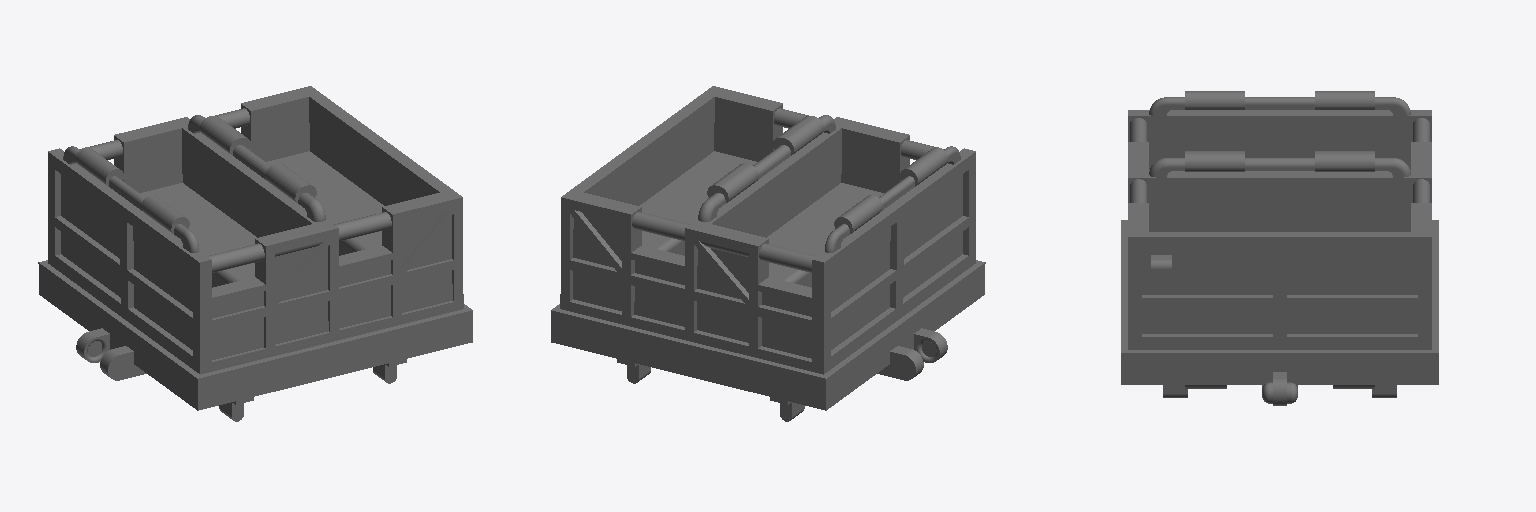
Rendered from roller_coaster_body.obj.
3 renders of one model, left to right at view 1: azimuth 30°, elevation 25°; view 2: azimuth 150°, elevation 25°; view 3: azimuth 270°, elevation 25°, orthographic.
Parts seen in each view (by area): view 1: Object003; view 2: Object003; view 3: Object003.
Part boxes in pixels (left/top/right/bottom): Object003: left=38, top=86, right=472, bottom=421; Object003: left=551, top=86, right=985, bottom=421; Object003: left=1121, top=91, right=1438, bottom=405.
Size of the model in its own units: 11831 by 7200 by 9951.